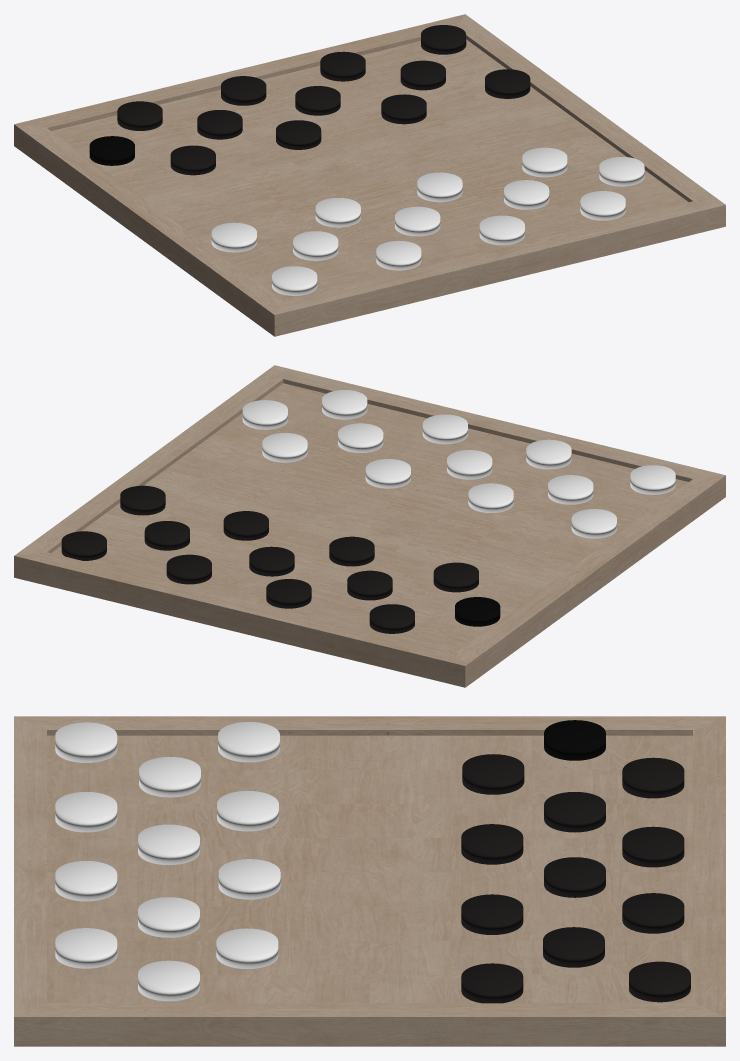
File: MUSHSSS.glb
The picture shows the model from 3 angles, top to bottom: view 1: azimuth 30°, elevation 25°; view 2: azimuth 150°, elevation 25°; view 3: azimuth 270°, elevation 25°; orthographic projection. The views are drawn at different scales.
Parts seen in each view (by area): view 1: Board, Cylinder.006, Cylinder.001, Cylinder.008, Cylinder.010, Cylinder.011, Cylinder.013, Cylinder.014, Cylinder.016, Cylinder, Cylinder.002, Cylinder.004 (+13 smaller); view 2: Board, Cylinder.018, Cylinder.022, Cylinder.001, Cylinder.015, Cylinder.011, Cylinder, Cylinder.009, Cylinder.010, Cylinder.002, Cylinder.003, Cylinder.013 (+13 smaller); view 3: Board, Cylinder.011, Cylinder.019, Cylinder.020, Cylinder.010, Cylinder.018, Cylinder, Cylinder.001, Cylinder.002, Cylinder.003, Cylinder.008, Cylinder.009 (+13 smaller).
Part boxes in pixels (bbox=[...]): Board: bbox=[14, 14, 725, 336]; Cylinder.006: bbox=[395, 206, 440, 236]; Cylinder.001: bbox=[479, 215, 524, 245]; Cylinder.008: bbox=[522, 147, 567, 177]; Cylinder.010: bbox=[417, 172, 462, 202]; Cylinder.011: bbox=[170, 145, 215, 175]; Cylinder.013: bbox=[211, 222, 256, 252]; Cylinder.014: bbox=[381, 94, 426, 124]; Cylinder.016: bbox=[400, 60, 445, 90]; Cylinder: bbox=[580, 191, 625, 220]; Cylinder.002: bbox=[376, 241, 421, 270]; Cylinder.004: bbox=[599, 157, 644, 186]; Board: bbox=[14, 365, 725, 687]; Cylinder.018: bbox=[166, 554, 211, 584]; Cylinder.022: bbox=[347, 570, 392, 600]; Cylinder.001: bbox=[422, 414, 467, 444]; Cylinder.015: bbox=[120, 485, 165, 515]; Cylinder.011: bbox=[433, 562, 478, 592]; Cylinder: bbox=[322, 390, 367, 419]; Cylinder.009: bbox=[329, 536, 374, 566]; Cylinder.010: bbox=[365, 459, 410, 488]; Cylinder.002: bbox=[526, 439, 571, 469]; Cylinder.003: bbox=[630, 465, 675, 494]; Cylinder.013: bbox=[571, 509, 616, 538]; Board: bbox=[14, 716, 725, 1046]; Cylinder.011: bbox=[462, 754, 524, 794]; Cylinder.019: bbox=[622, 826, 684, 867]; Cylinder.020: bbox=[622, 757, 684, 798]; Cylinder.010: bbox=[218, 859, 280, 899]; Cylinder.018: bbox=[622, 893, 684, 933]; Cylinder: bbox=[55, 928, 117, 968]; Cylinder.001: bbox=[55, 861, 117, 901]; Cylinder.002: bbox=[55, 792, 117, 832]; Cylinder.003: bbox=[55, 722, 117, 762]; Cylinder.008: bbox=[216, 928, 278, 968]; Cylinder.009: bbox=[461, 824, 523, 864].
Size of the model in its own units: 4.2 by 0.2696 by 4.2.
5 materials, 2 textured.
